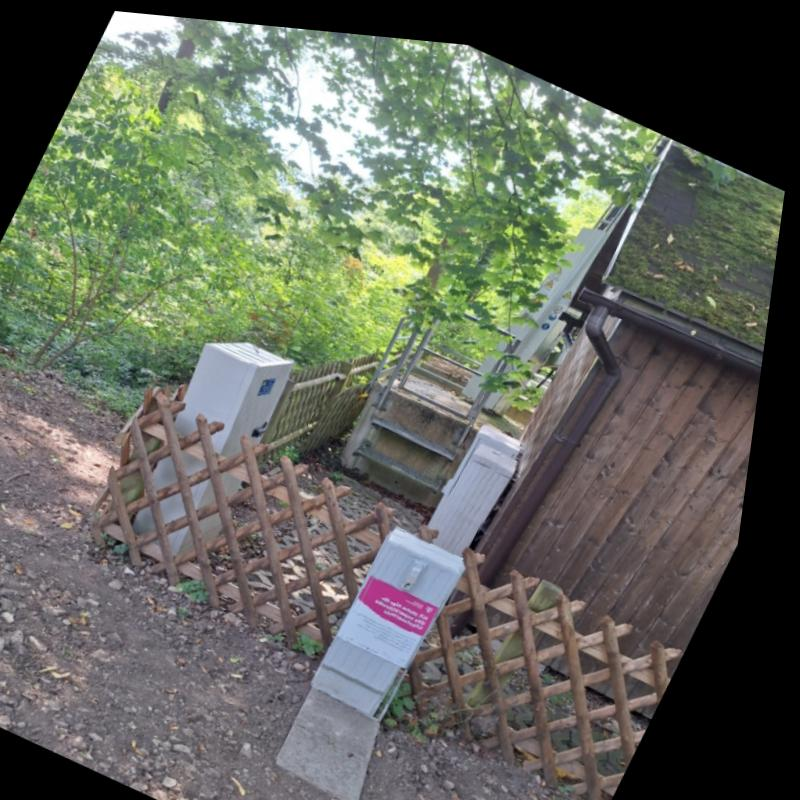NT-Gehause: (329, 518, 477, 707)
Steaker: (359, 569, 455, 658)
